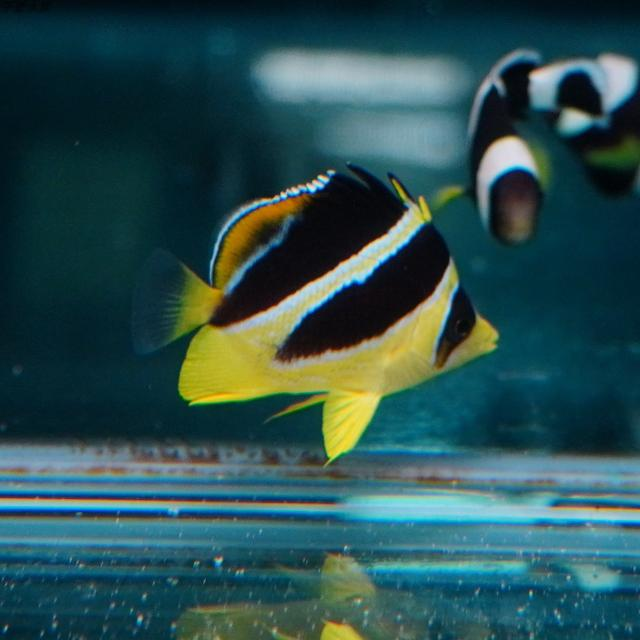ButterflyFish: (144, 155, 502, 462)
